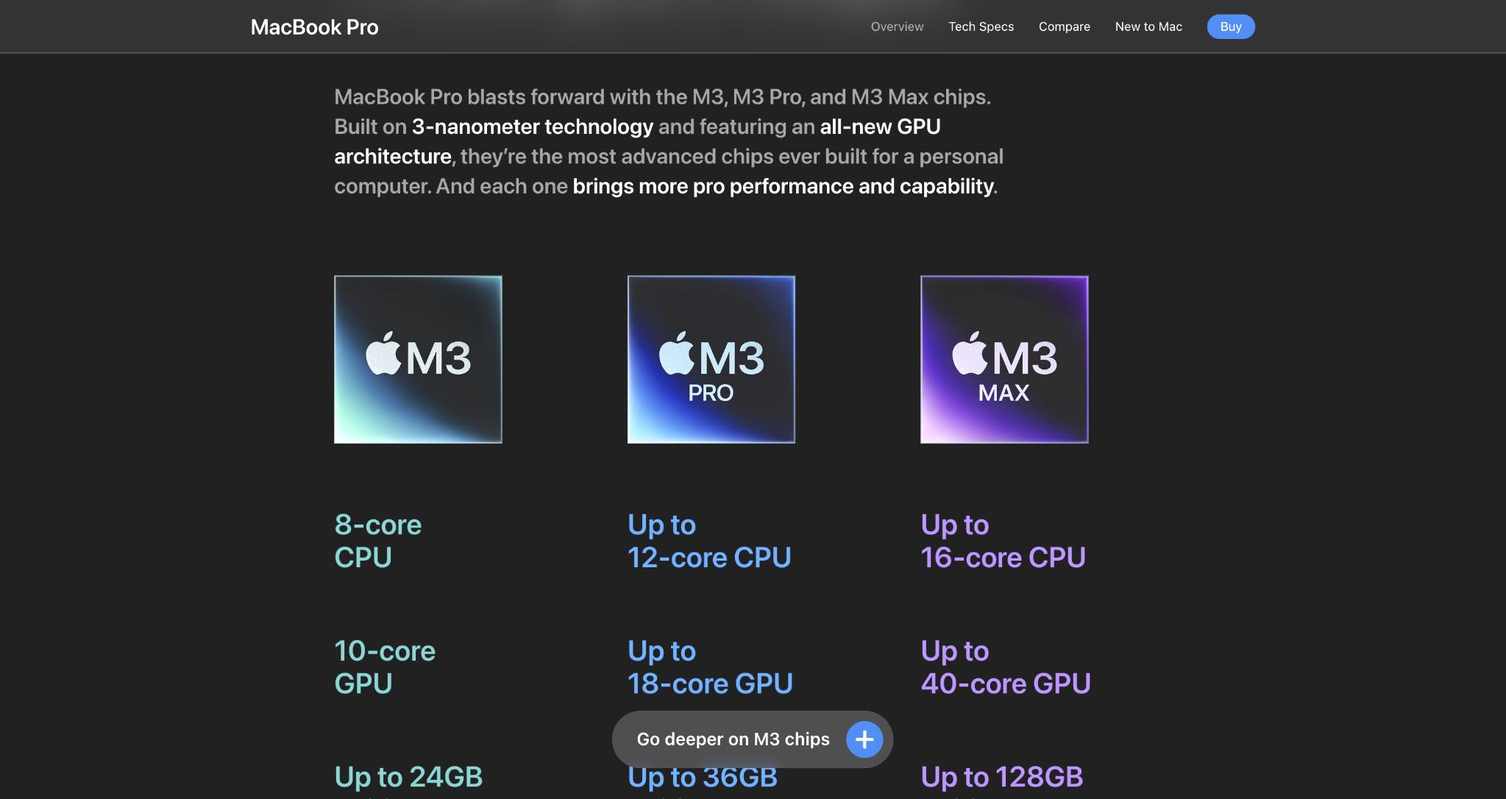webelement: (334, 275, 1254, 799), (626, 275, 892, 799), (920, 275, 1186, 799), (334, 275, 599, 799), (0, 0, 1505, 53), (333, 81, 1003, 200), (334, 113, 941, 168), (333, 275, 501, 443), (627, 275, 795, 443), (920, 275, 1088, 443), (573, 173, 993, 198), (636, 712, 830, 765), (412, 113, 654, 138), (250, 14, 378, 38), (1115, 15, 1182, 37), (948, 15, 1013, 37), (870, 15, 923, 37), (1208, 14, 1255, 38), (1038, 15, 1089, 37)
